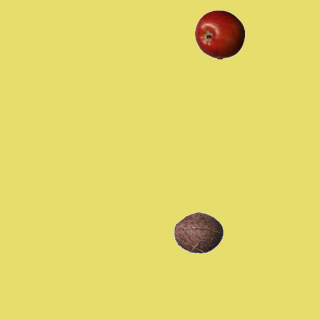Apple Braeburn: (194, 9, 244, 59)
Cocos: (173, 207, 223, 257)
